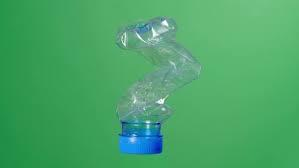plastic: (115, 14, 204, 155)
